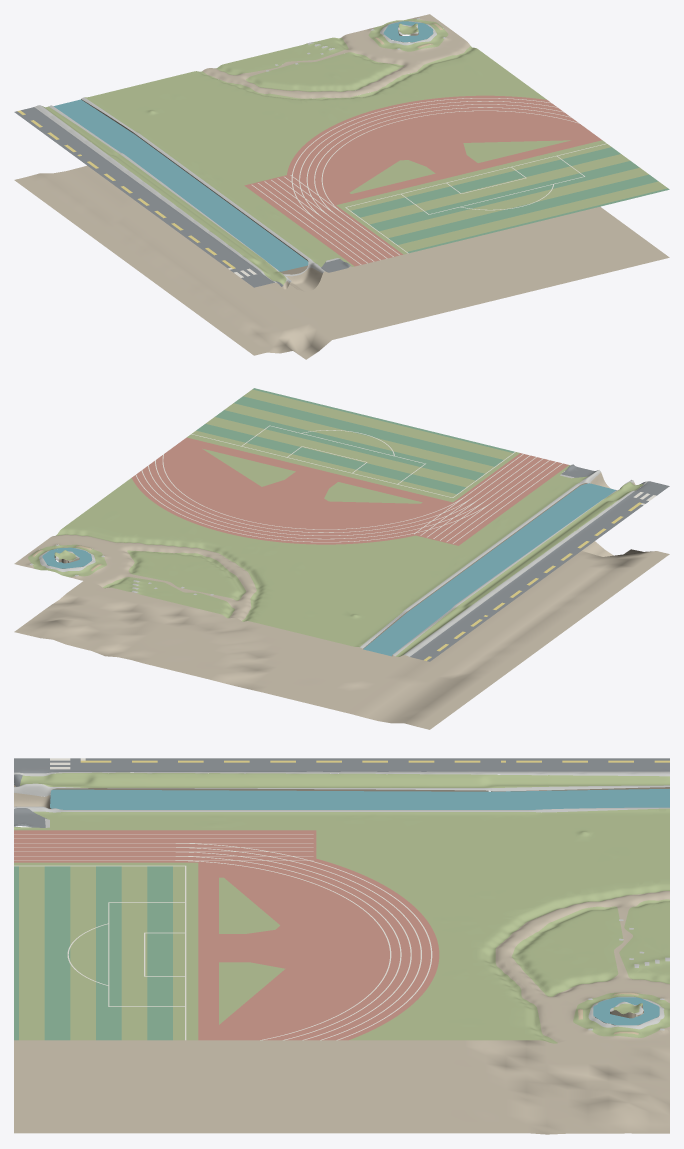
The picture shows the model from 3 angles, top to bottom: view 1: azimuth 30°, elevation 25°; view 2: azimuth 150°, elevation 25°; view 3: azimuth 270°, elevation 25°; orthographic projection. The views are drawn at different scales.
Visible parts, largest first — view 1: s_-8_3__grass, s_-8_3__soil, s_-8_3__red_court, s_-8_3__green_court, s_-8_3__water, s_-8_3__asphalt, s_-8_3__white_marking, s_-8_3__stone_paving, s_-8_3__shore_bank; view 2: s_-8_3__grass, s_-8_3__soil, s_-8_3__red_court, s_-8_3__green_court, s_-8_3__water, s_-8_3__asphalt, s_-8_3__white_marking, s_-8_3__stone_paving; view 3: s_-8_3__grass, s_-8_3__soil, s_-8_3__red_court, s_-8_3__green_court, s_-8_3__water, s_-8_3__asphalt, s_-8_3__white_marking, s_-8_3__stone_paving, s_-8_3__shore_bank, s_-8_3__yellow_marking.
Boxes of the visible parts, box(x1,y1,x2,y2) form: s_-8_3__grass: box(42, 19, 667, 284); s_-8_3__soil: box(14, 14, 669, 359); s_-8_3__red_court: box(244, 95, 601, 266); s_-8_3__green_court: box(351, 147, 669, 253); s_-8_3__water: box(53, 21, 433, 271); s_-8_3__asphalt: box(14, 107, 350, 287); s_-8_3__white_marking: box(228, 98, 606, 277); s_-8_3__stone_paving: box(34, 18, 445, 283); s_-8_3__shore_bank: box(81, 30, 426, 274); s_-8_3__grass: box(28, 389, 643, 656); s_-8_3__soil: box(14, 472, 669, 729); s_-8_3__red_court: box(132, 437, 568, 545); s_-8_3__green_court: box(196, 388, 514, 494); s_-8_3__water: box(42, 483, 615, 656); s_-8_3__asphalt: box(410, 464, 669, 661); s_-8_3__white_marking: box(135, 425, 656, 543); s_-8_3__stone_paving: box(29, 470, 647, 656); s_-8_3__grass: box(14, 772, 669, 1043); s_-8_3__soil: box(14, 785, 669, 1134); s_-8_3__red_court: box(14, 830, 439, 1040); s_-8_3__green_court: box(14, 866, 172, 1040); s_-8_3__water: box(50, 789, 669, 1025); s_-8_3__asphalt: box(14, 758, 669, 827); s_-8_3__white_marking: box(14, 758, 432, 1040); s_-8_3__stone_paving: box(14, 771, 669, 1030); s_-8_3__shore_bank: box(50, 787, 669, 1025); s_-8_3__yellow_marking: box(80, 760, 669, 762).
Size of the model in its own units: 128 by 26.13 by 128.
